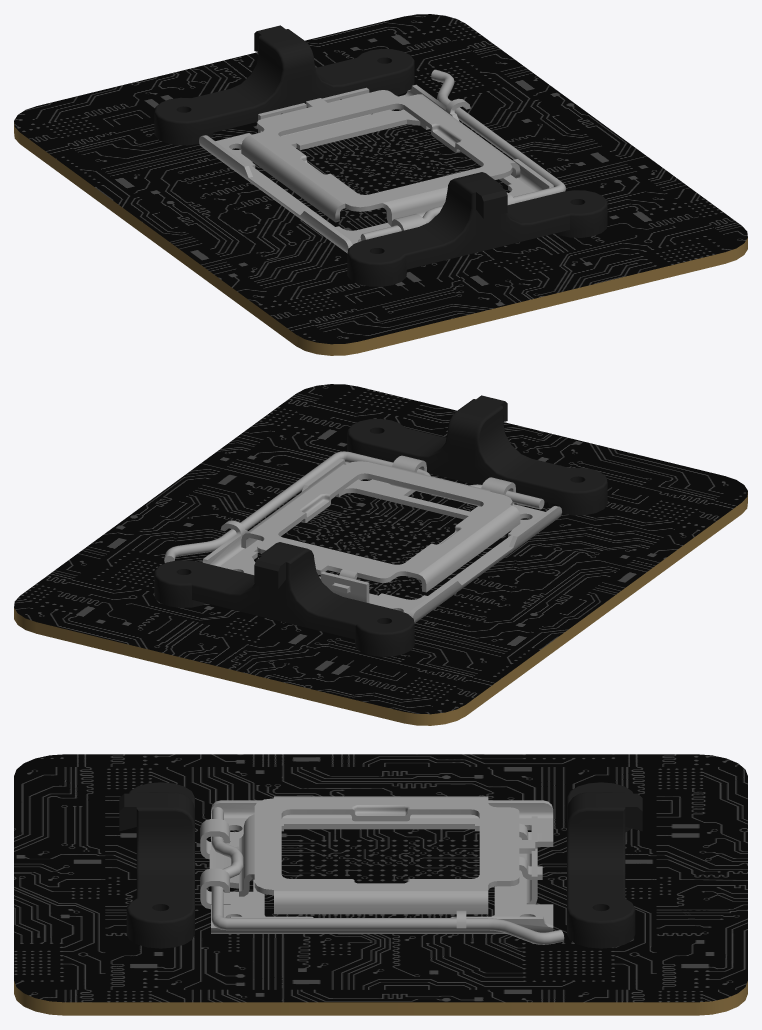
Rendered from chip.glb.
The picture shows the model from 3 angles, top to bottom: view 1: azimuth 30°, elevation 25°; view 2: azimuth 150°, elevation 25°; view 3: azimuth 270°, elevation 25°; orthographic projection. The views are drawn at different scales.
Parts seen in each view (by area): view 1: Object_5, Object_3, Object_6, Object_4; view 2: Object_5, Object_3, Object_6, Object_4; view 3: Object_5, Object_6, Object_3, Object_4.
Part boxes in pixels (x1,y1,x2,y2): Object_5: (14,14,747,344); Object_3: (154,25,607,286); Object_6: (199,69,566,253); Object_4: (14,122,747,355); Object_5: (14,384,747,714); Object_3: (154,395,607,656); Object_6: (164,451,561,623); Object_4: (14,492,747,725); Object_5: (14,754,747,1002); Object_6: (200,796,564,944); Object_3: (119,782,642,948); Object_4: (14,981,747,1015).
Bounding box in the file's own units: 0.12 × 0.0218 × 0.15.
Materials: 5 (1 with a texture image).
